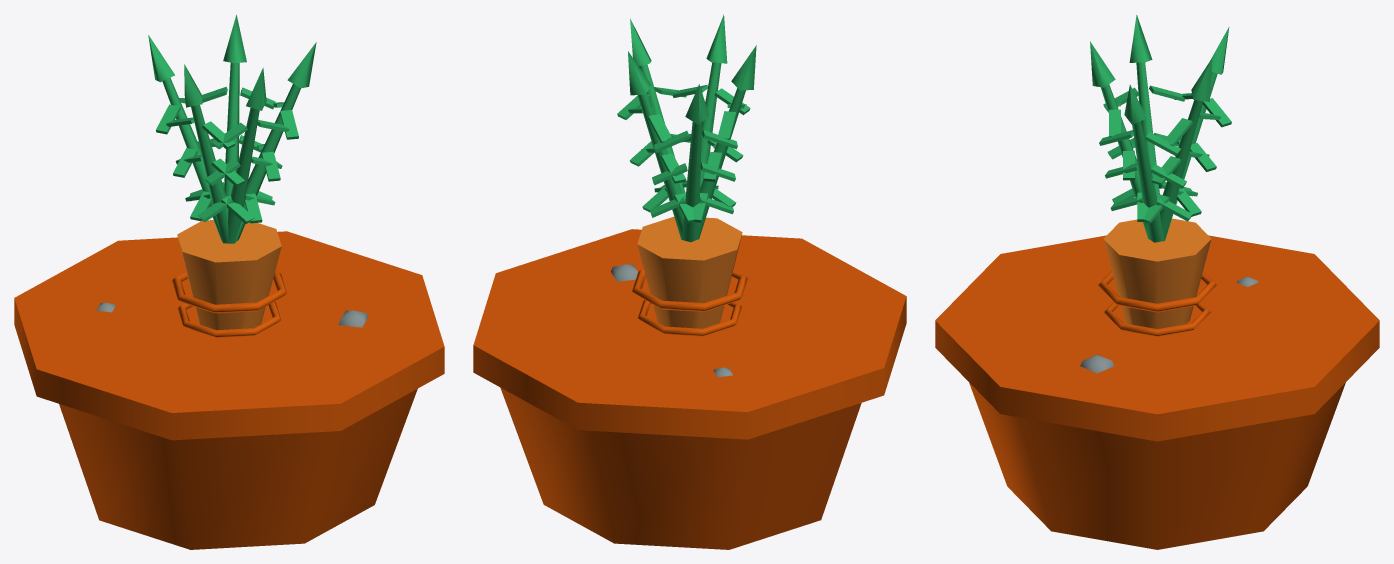
The model's file is carrot.glb.
3 views of the same model, side by side, from view 1: azimuth 30°, elevation 25°; view 2: azimuth 150°, elevation 25°; view 3: azimuth 270°, elevation 25° (orthographic).
Visible parts, largest first — view 1: rim, pot, carrot_root, leaf_branch_0, leaf_branch_4, leaf_branch_1, leaf_branch_3, carrot, leaf_branch_2; view 2: rim, pot, carrot_root, leaf_branch_3, leaf_branch_2, leaf_branch_0, carrot, leaf_branch_4, leaf_branch_1; view 3: rim, pot, carrot_root, leaf_branch_1, leaf_branch_2, leaf_branch_4, carrot, leaf_branch_0, leaf_branch_3.
Part boxes in pixels (x1,y1,x2,y2): rim: [14, 231, 444, 440]; pot: [59, 388, 417, 549]; carrot_root: [177, 220, 281, 330]; leaf_branch_0: [198, 67, 289, 243]; leaf_branch_4: [166, 64, 254, 243]; leaf_branch_1: [234, 42, 316, 242]; leaf_branch_3: [148, 35, 222, 241]; carrot: [172, 270, 286, 337]; leaf_branch_2: [190, 14, 275, 201]; rim: [473, 229, 906, 439]; pot: [500, 387, 861, 549]; carrot_root: [637, 216, 742, 328]; leaf_branch_3: [650, 84, 737, 242]; leaf_branch_2: [628, 51, 694, 239]; leaf_branch_0: [661, 14, 750, 206]; carrot: [632, 268, 747, 336]; leaf_branch_4: [693, 45, 756, 239]; leaf_branch_1: [617, 18, 690, 212]; rim: [935, 235, 1379, 441]; pot: [969, 382, 1345, 549]; carrot_root: [1103, 218, 1211, 328]; leaf_branch_1: [1099, 84, 1192, 242]; leaf_branch_2: [1144, 58, 1220, 241]; leaf_branch_4: [1103, 15, 1192, 203]; carrot: [1098, 271, 1216, 336]; leaf_branch_0: [1090, 41, 1149, 239]; leaf_branch_3: [1159, 27, 1231, 232].
Bounding box in the file's own units: 0.74 × 0.818 × 0.74.
